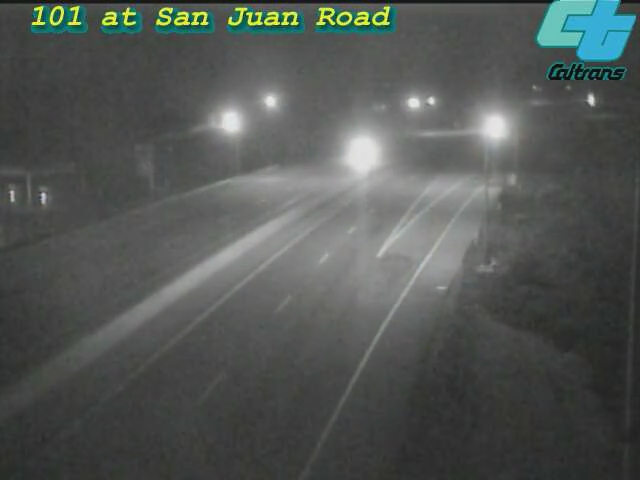vehicle: (335, 128, 385, 178), (465, 103, 515, 153)
